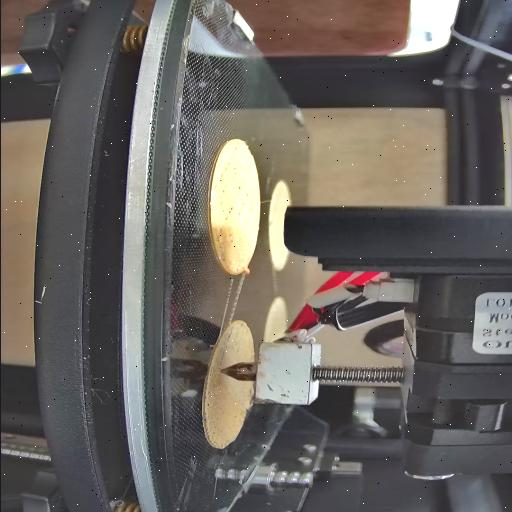under_extrusion: (214, 142, 250, 220), (214, 326, 236, 364), (208, 232, 234, 264), (205, 390, 219, 436)
